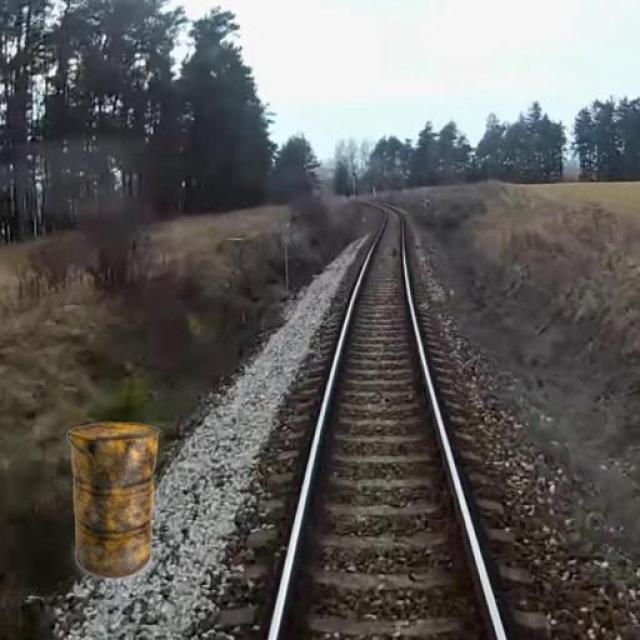Other_objects: (59, 416, 172, 582)
